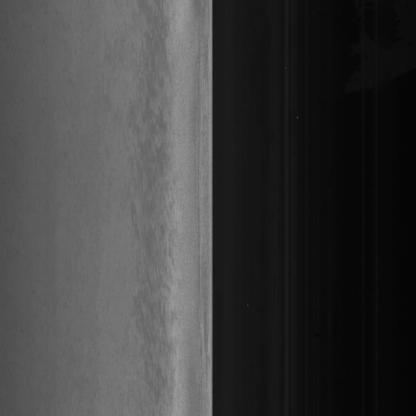silk_spot: (138, 164, 183, 312)
